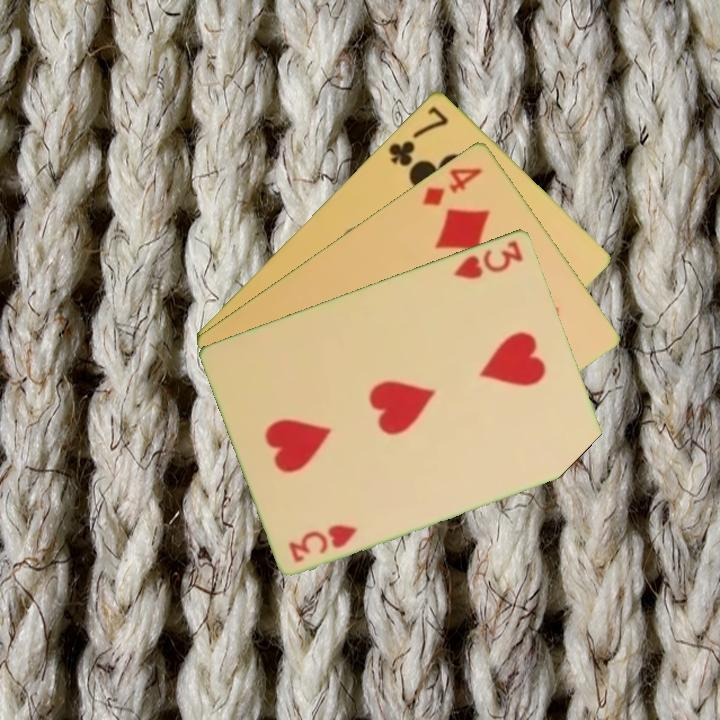3h: (451, 236, 526, 282), (285, 520, 361, 565)
4d: (418, 163, 486, 209)
7c: (385, 102, 452, 169)
